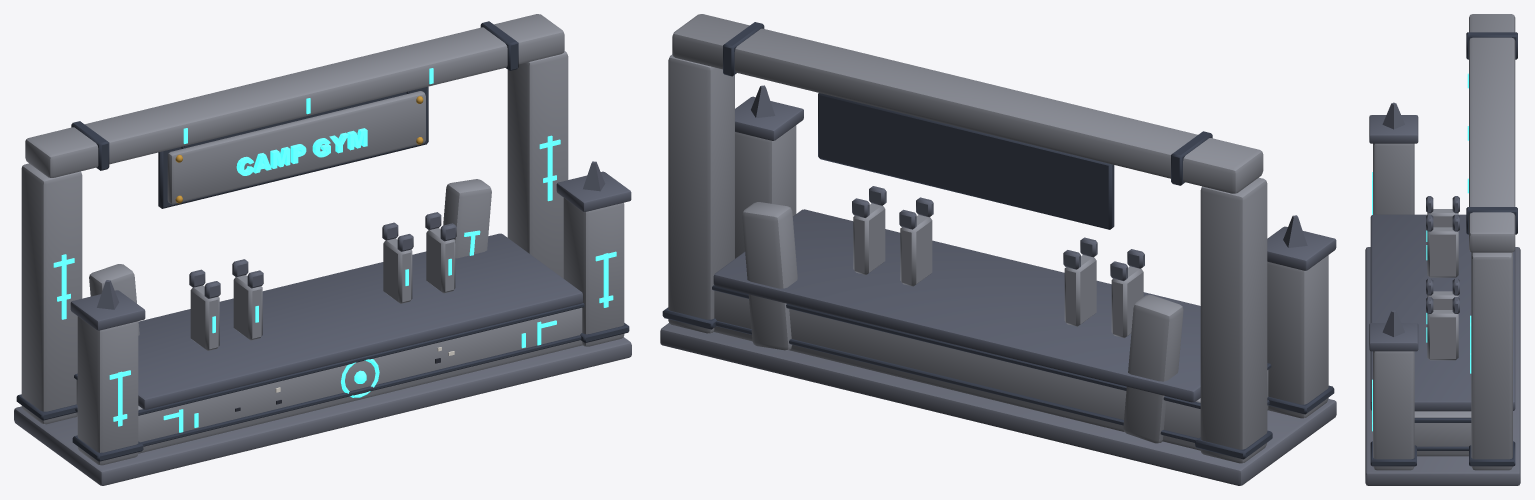
The model's file is st_05_granite.glb.
3 views of the same model, side by side, from view 1: azimuth 30°, elevation 25°; view 2: azimuth 150°, elevation 25°; view 3: azimuth 270°, elevation 25° (orthographic). The views are drawn at different scales.
Parts seen in each view (by area): view 1: st_05_granite; view 2: st_05_granite; view 3: st_05_granite.
Part boxes in pixels (bbox=[...]): st_05_granite: bbox=[14, 14, 631, 485]; st_05_granite: bbox=[660, 14, 1336, 485]; st_05_granite: bbox=[1365, 14, 1520, 485].
Size of the model in its own units: 10.45 by 5.38 by 3.
